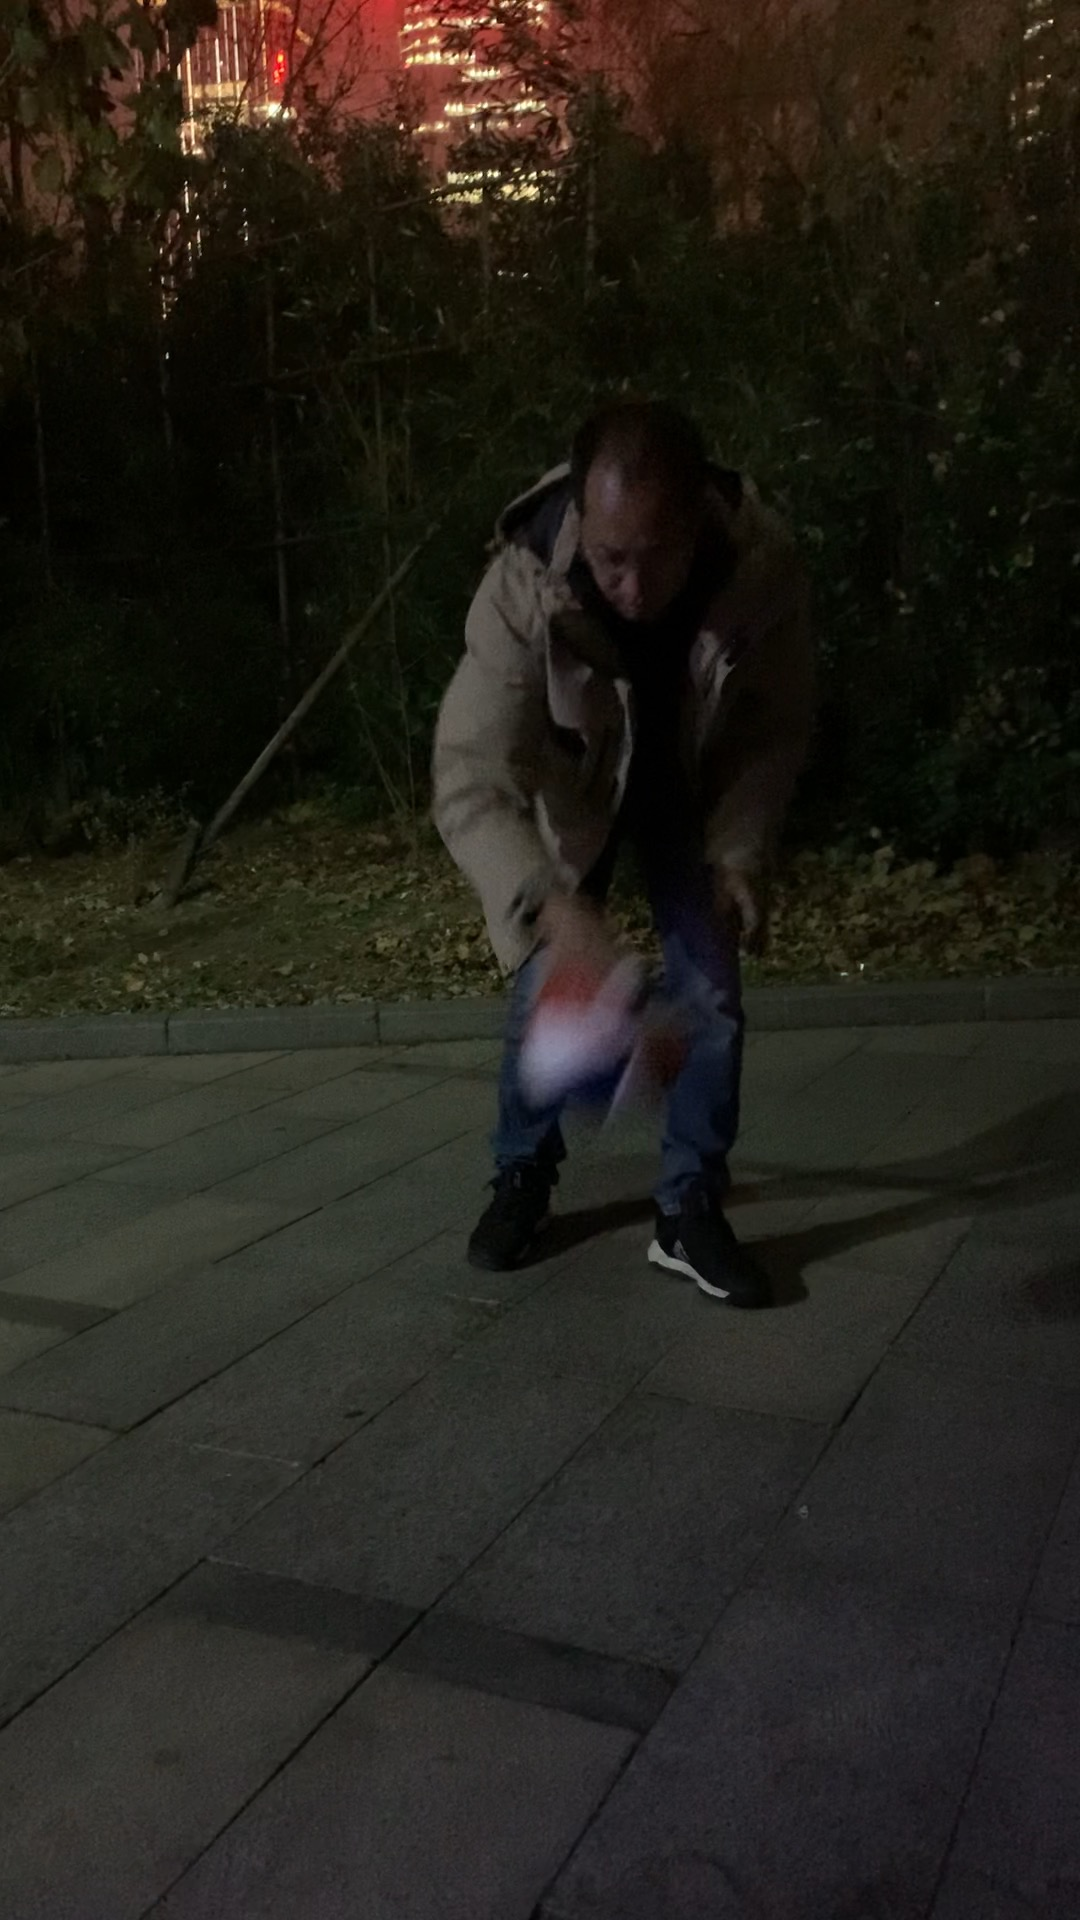ball: (522, 949, 698, 1131)
